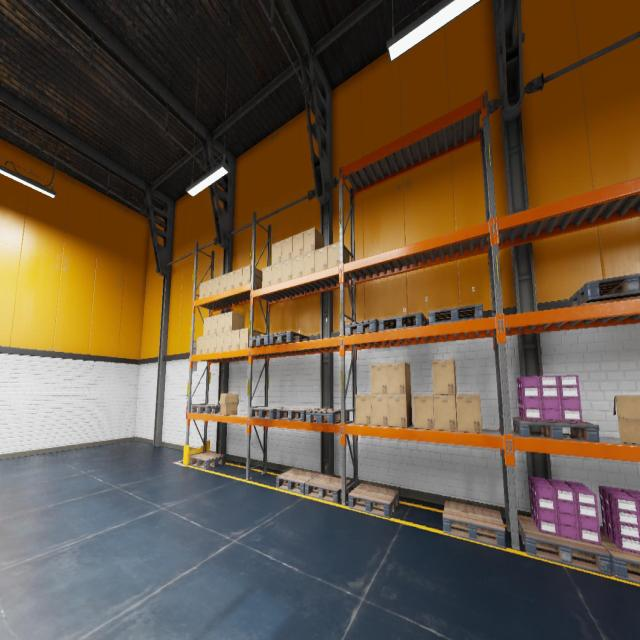box: (613, 395, 640, 444), (456, 394, 482, 432), (433, 394, 458, 430), (432, 359, 456, 395), (388, 394, 412, 427), (387, 362, 411, 394), (413, 394, 434, 430), (328, 242, 349, 275), (303, 227, 324, 254), (370, 363, 388, 394), (371, 395, 388, 426), (355, 394, 371, 425), (242, 265, 262, 288), (239, 328, 260, 349), (219, 393, 239, 415), (224, 311, 244, 332), (315, 246, 327, 272), (303, 250, 315, 276), (292, 232, 303, 258), (281, 258, 292, 282), (282, 236, 292, 262), (292, 255, 303, 278), (272, 240, 282, 265), (272, 262, 282, 284), (262, 266, 271, 288), (231, 330, 240, 350), (224, 331, 232, 351), (216, 332, 224, 352), (234, 268, 242, 288), (202, 335, 210, 354), (226, 271, 234, 290), (210, 315, 217, 335), (203, 316, 210, 336), (209, 334, 216, 353), (217, 314, 224, 333), (212, 276, 219, 295), (196, 336, 203, 354), (219, 274, 226, 292), (205, 279, 212, 297), (199, 282, 206, 298)
pallets: (518, 515, 612, 577), (442, 501, 506, 548), (570, 274, 640, 306), (512, 418, 600, 442), (600, 532, 640, 584), (348, 483, 399, 518), (304, 475, 350, 503), (428, 303, 484, 325), (276, 469, 319, 494), (378, 313, 428, 331), (306, 409, 349, 424), (190, 452, 225, 469), (269, 331, 309, 345), (277, 408, 319, 421), (345, 319, 379, 335), (249, 406, 287, 419), (249, 334, 286, 347), (191, 404, 220, 414)
